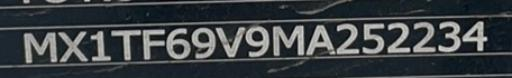letter: (268, 21, 310, 58), (18, 27, 58, 64), (302, 22, 338, 59), (108, 24, 144, 61), (407, 19, 441, 56), (460, 19, 492, 58), (214, 22, 246, 59), (56, 27, 88, 63), (358, 20, 388, 58), (333, 20, 363, 58), (188, 23, 218, 60), (384, 20, 412, 57), (139, 26, 169, 60), (437, 18, 463, 57), (244, 23, 272, 59), (164, 24, 192, 60), (88, 26, 112, 65)
